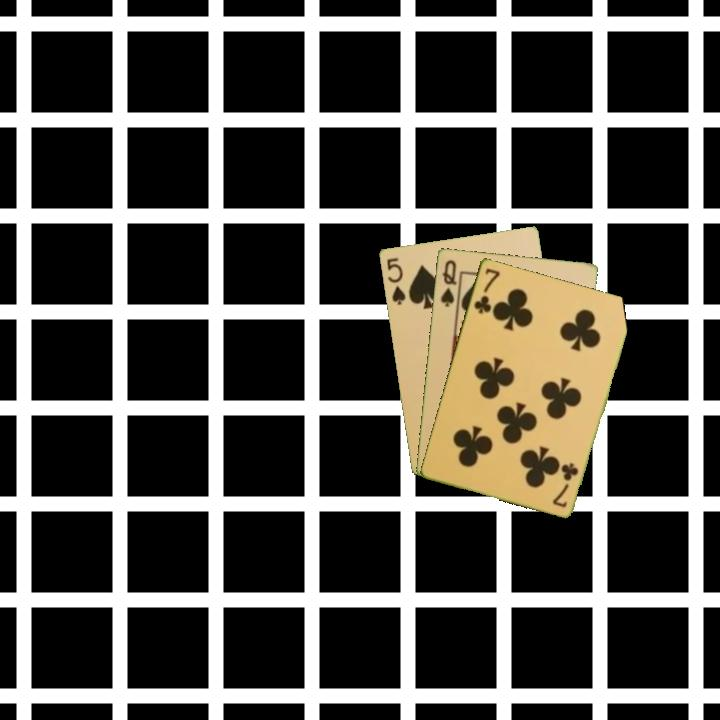5s: (383, 254, 408, 308)
7c: (470, 264, 503, 316), (551, 459, 581, 510)
Qs: (437, 256, 459, 310)
